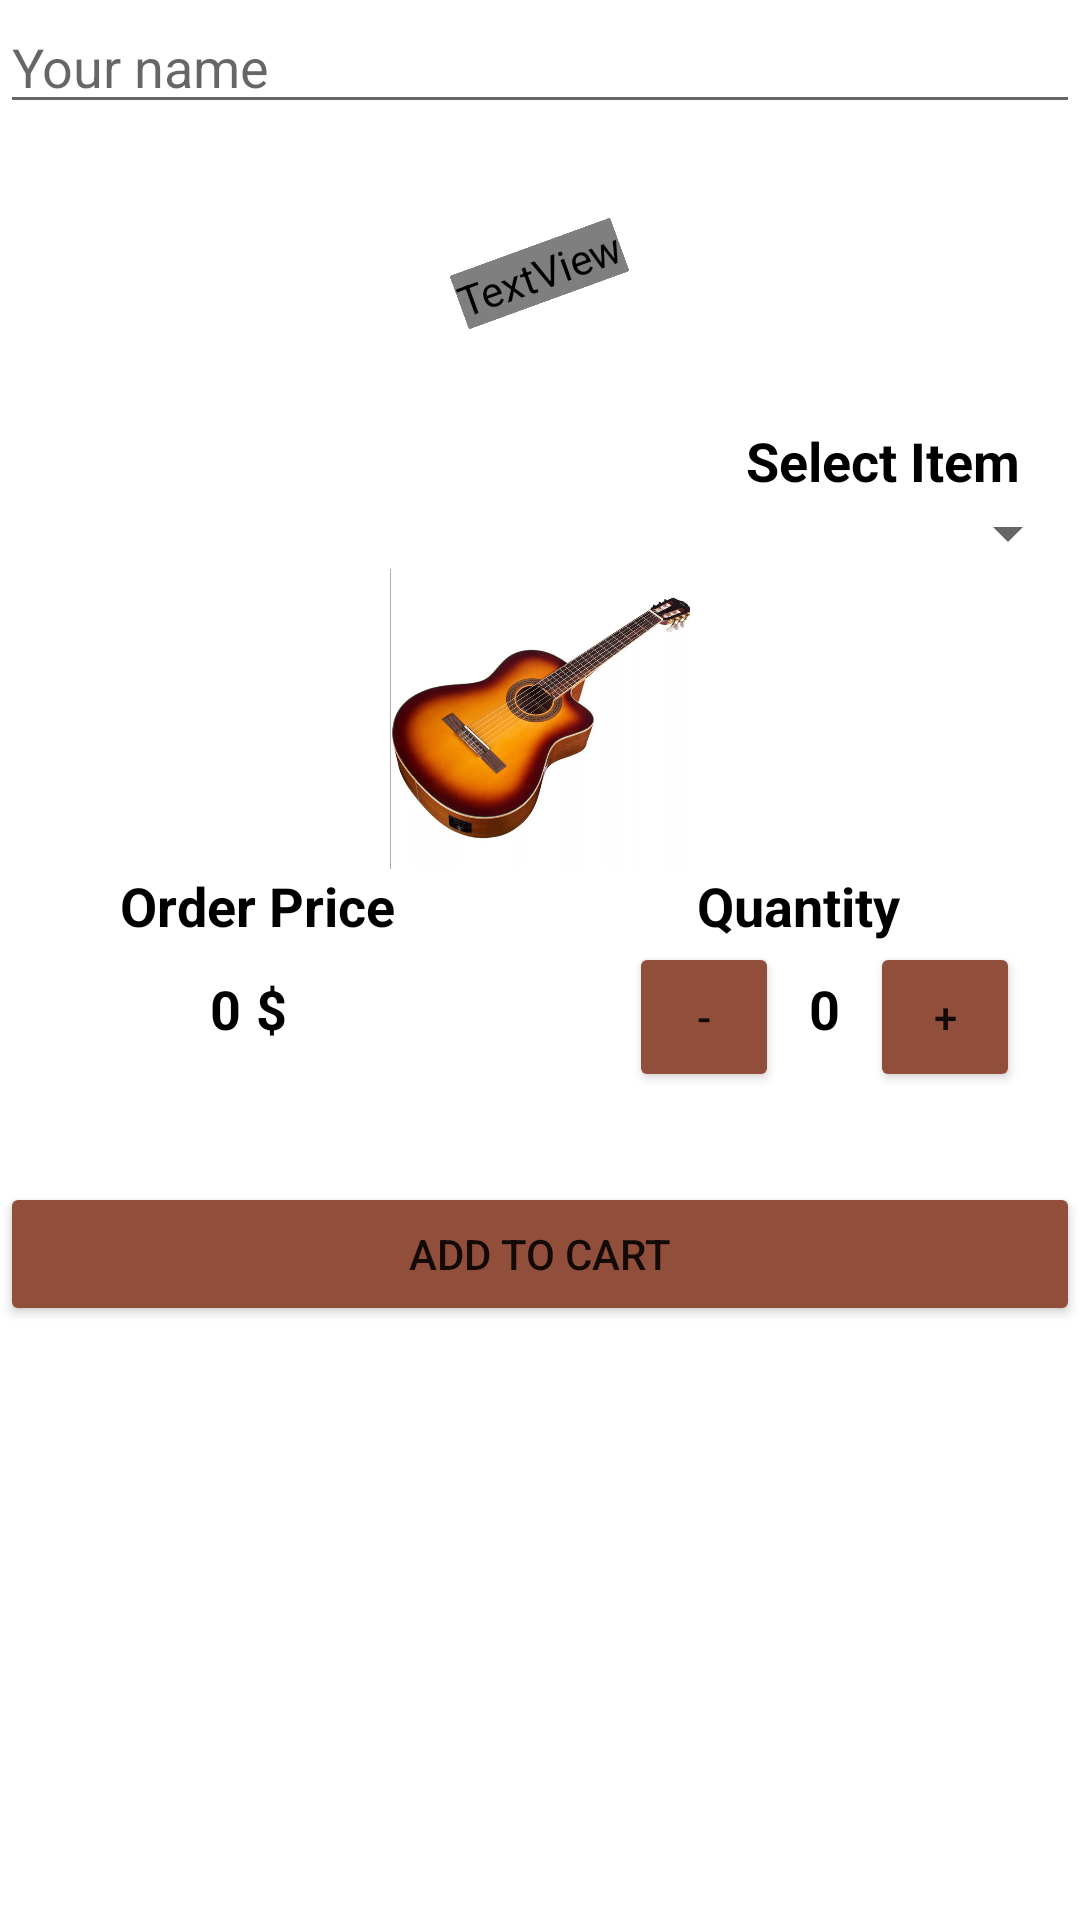

Icons on this 1080px×1920px Android screen, each with its box as (x1, y1, x2, y2):
guitar: (390, 569, 690, 869)
